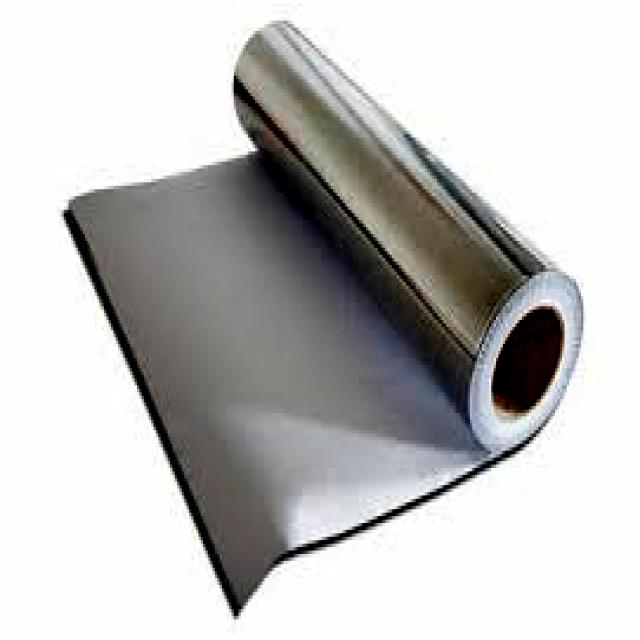Metal: (57, 17, 588, 627)
